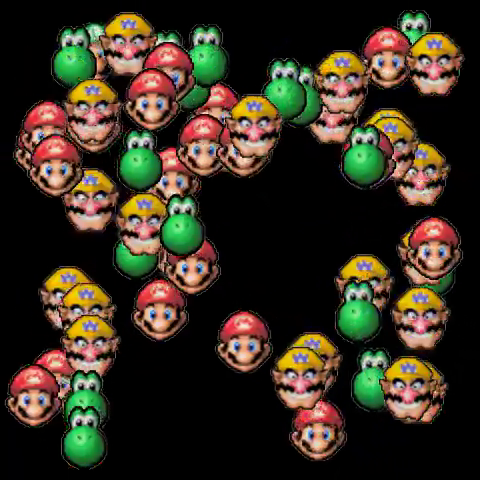luigi: (65, 21, 116, 86)
